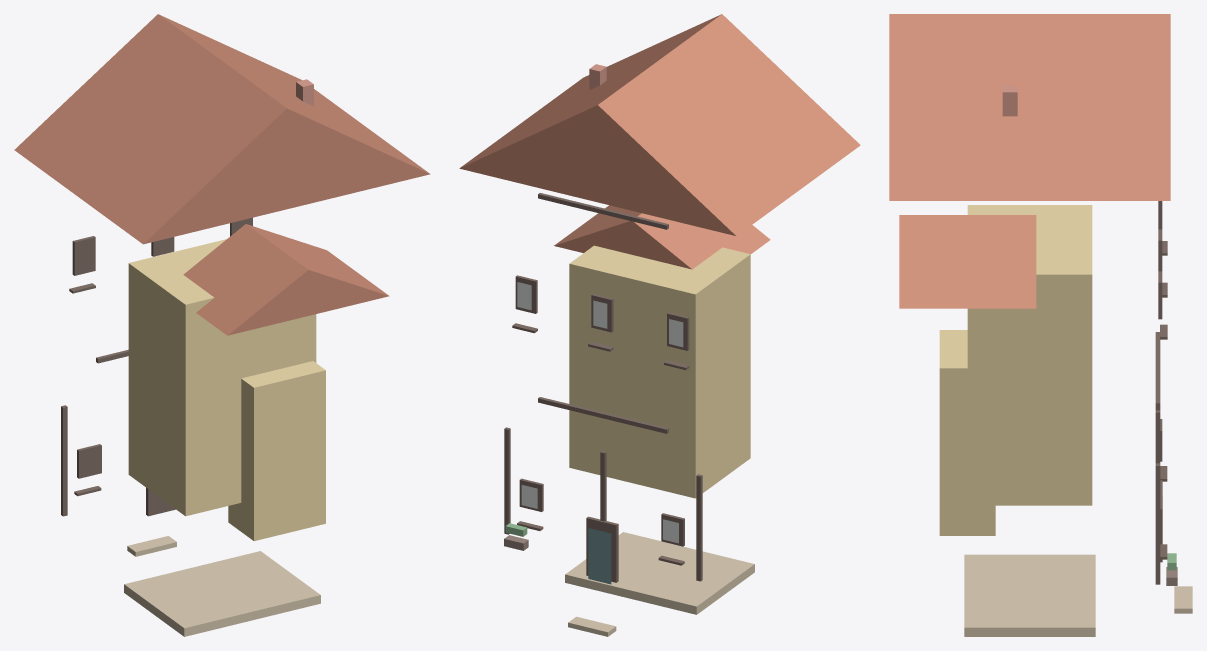
Rendered from ravnbro-house-ochre-01.glb.
3 renders of one model, left to right at view 1: azimuth 30°, elevation 25°; view 2: azimuth 150°, elevation 25°; view 3: azimuth 270°, elevation 25°, orthographic. The views are drawn at different scales.
Visible parts, largest first — view 1: roof, body, wing, wing_roof, plinth, uwf_1_-0.85, up_-1.08, wf_-0.80, step; view 2: roof, body, plinth, wing_roof, door, door_frame, beam_2, beam_1, up_-1.08, up_1.08, step; view 3: roof, body, wing_roof, plinth, wing, up_1.08, step, chimney, beam_1.
Part boxes in pixels (x1,y1,x2,y2): roof: (14,14,430,244); body: (128,239,316,516); wing: (228,361,325,541); wing_roof: (183,224,389,335); plinth: (124,551,320,636); uwf_1_-0.85: (72,236,95,275); up_-1.08: (61,405,67,516); wf_-0.80: (77,444,101,478); step: (127,536,176,556); roof: (459,14,860,236); body: (569,245,750,498); plinth: (565,532,754,614); wing_roof: (554,205,770,269); door: (588,528,611,584); door_frame: (586,516,618,582); beam_2: (538,193,668,229); beam_1: (538,397,668,433); up_-1.08: (696,474,702,581); up_1.08: (504,427,510,534); step: (568,616,616,636); roof: (889,14,1170,200); body: (967,205,1092,505); wing_roof: (899,215,1036,308); plinth: (964,554,1095,636); wing: (939,330,995,535); up_1.08: (1155,463,1160,584); step: (1174,586,1192,613); chimney: (1002,86,1017,116); beam_1: (1155,332,1160,407).
Bounding box in the file's own units: 3.13 × 5.61 × 2.62.
